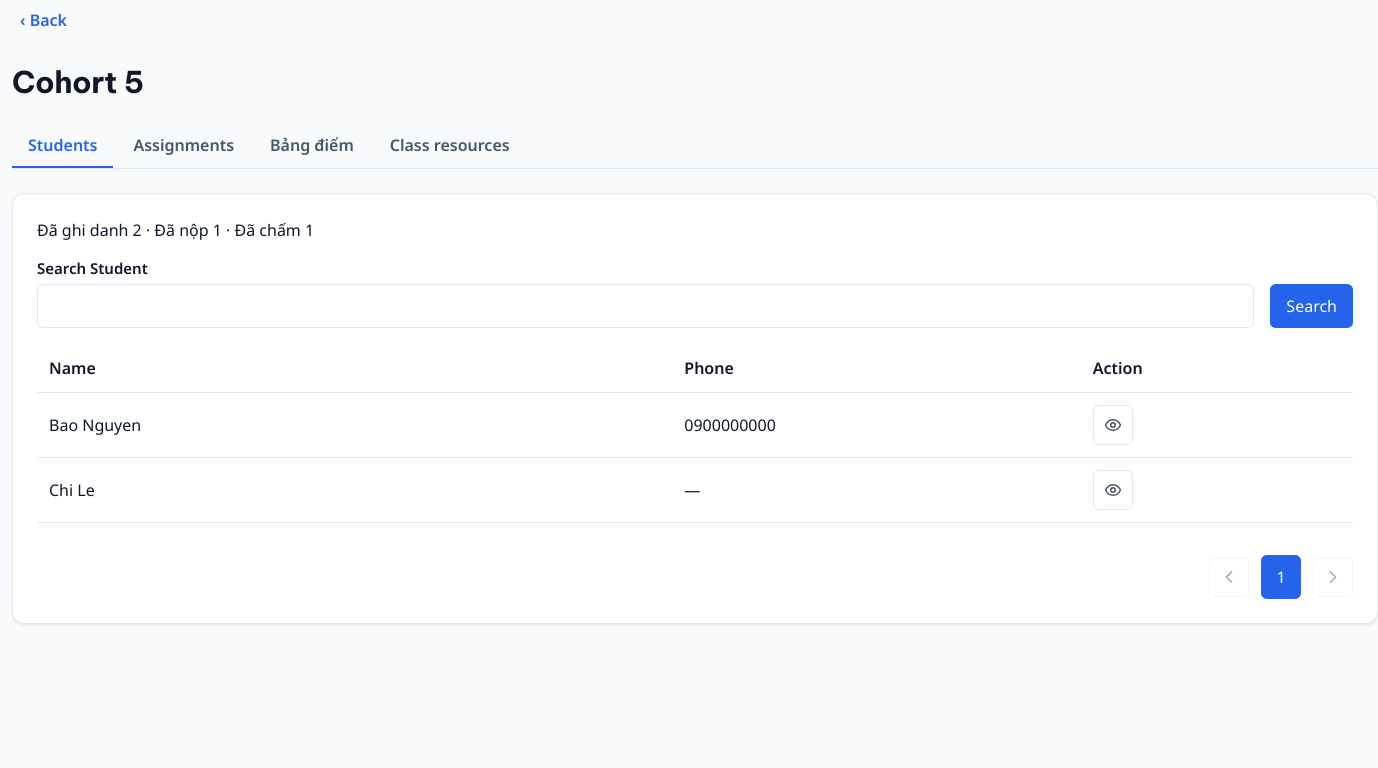
Test: Teacher class page › shows an empty state when there are no assignments
Check: the heading "Cohort 5" is shown, box [12,64,144,100]
Click the tab "Assignments" at (184, 146), box [118,124,250,168]
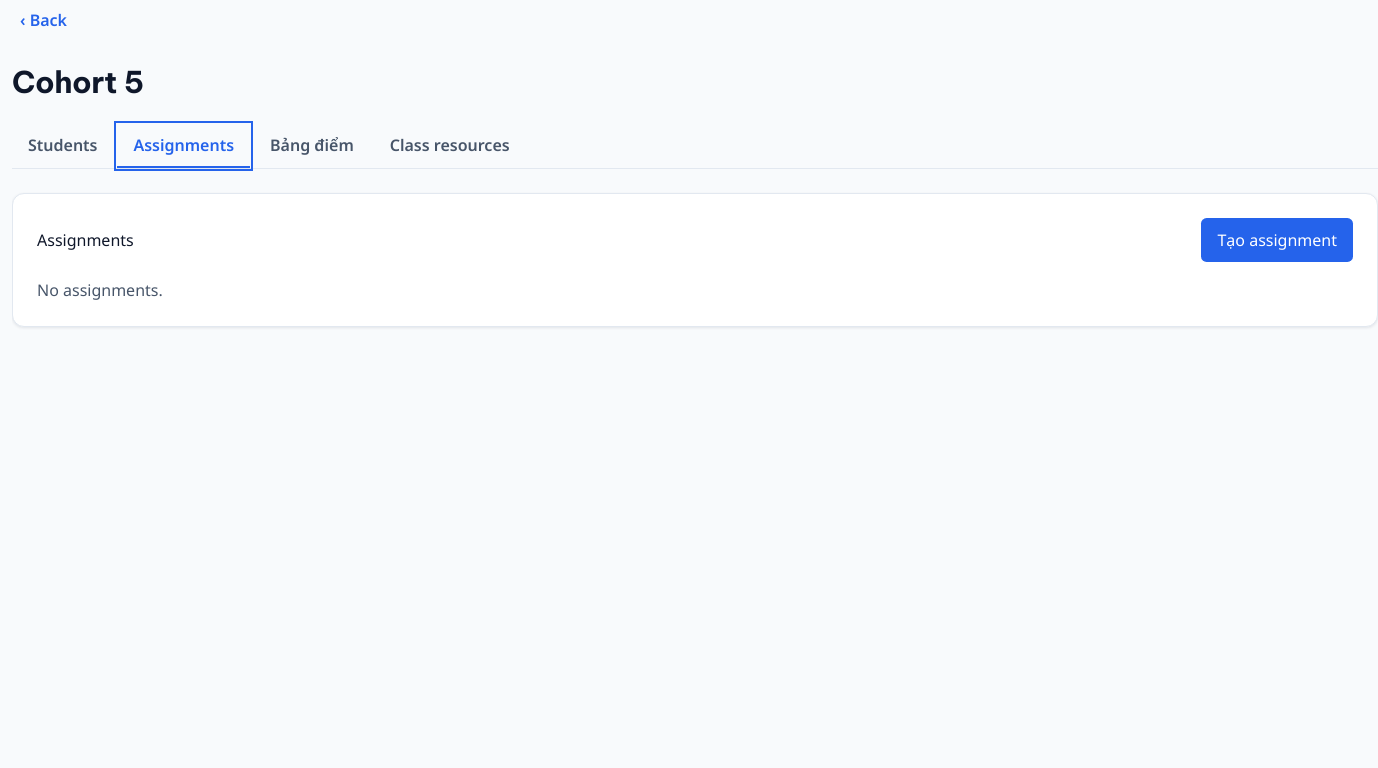
Check: the text "No assignments." is shown, box [37,279,163,301]
